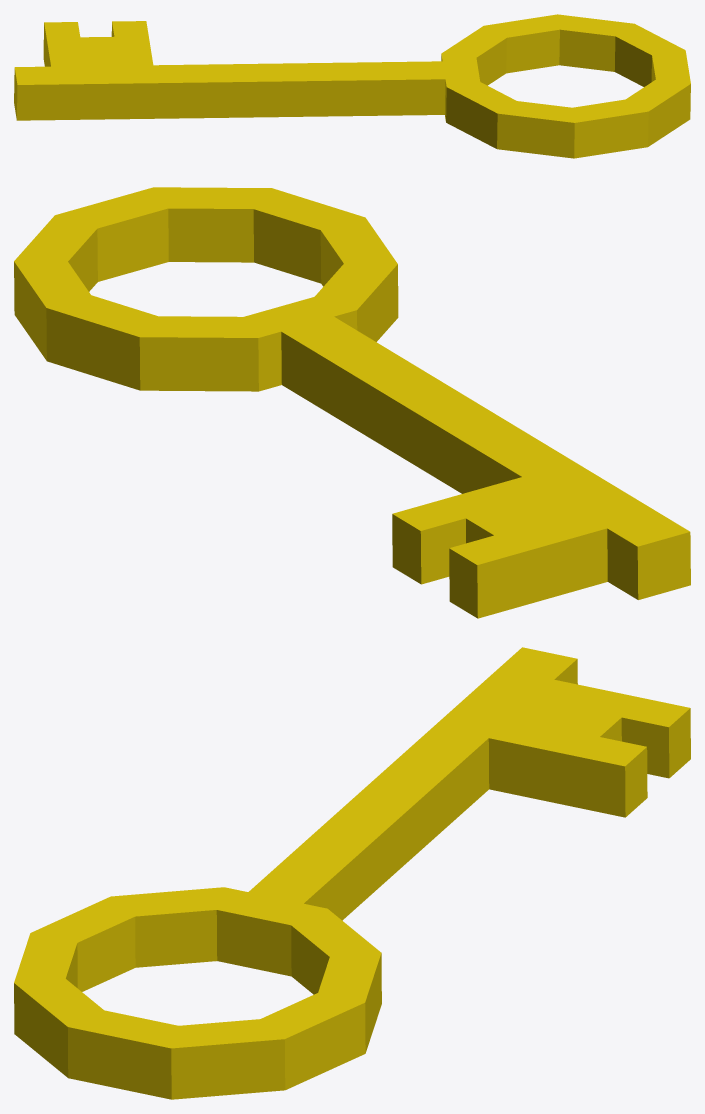
The model's file is Key.fbx.
3 renders of one model, top to bottom at view 1: azimuth 30°, elevation 25°; view 2: azimuth 150°, elevation 25°; view 3: azimuth 270°, elevation 25°, orthographic. The views are drawn at different scales.
Parts seen in each view (by area): view 1: Key.001; view 2: Key.001; view 3: Key.001.
Part boxes in pixels (x1,y1,x2,y2): Key.001: (14,14,690,158); Key.001: (14,187,690,618); Key.001: (14,647,690,1099).
Bounding box in the file's own units: 491 × 39.09 × 363.
